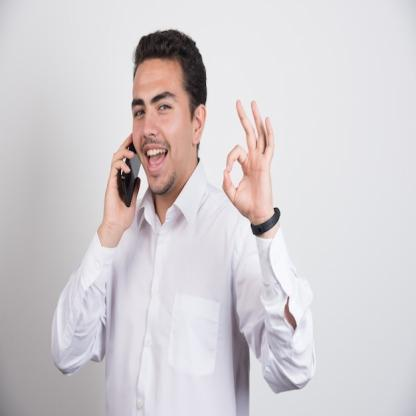ok: (219, 93, 278, 224)
